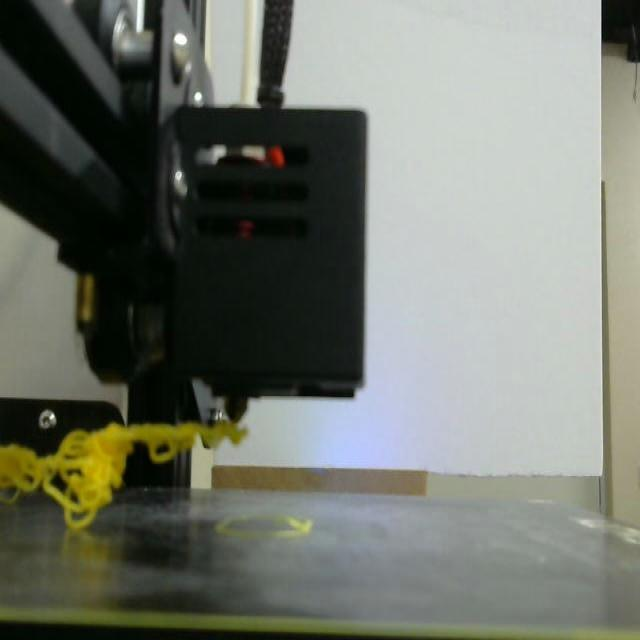spaghetti: (0, 423, 246, 529)
